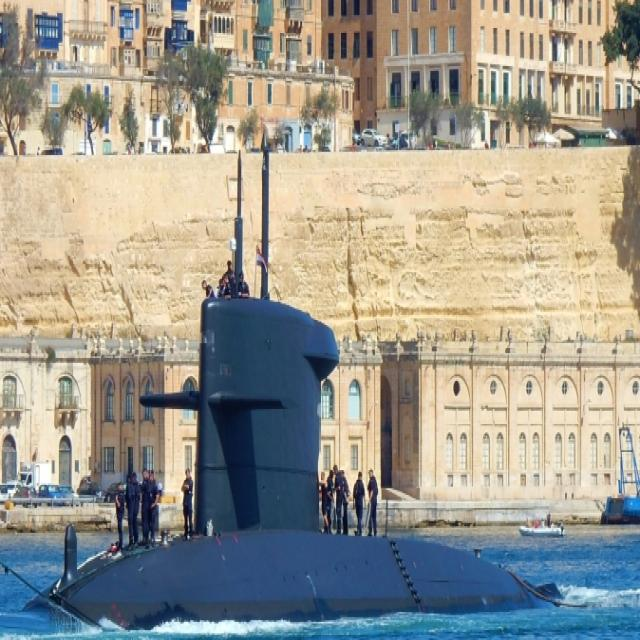submarine: (25, 311, 544, 620)
